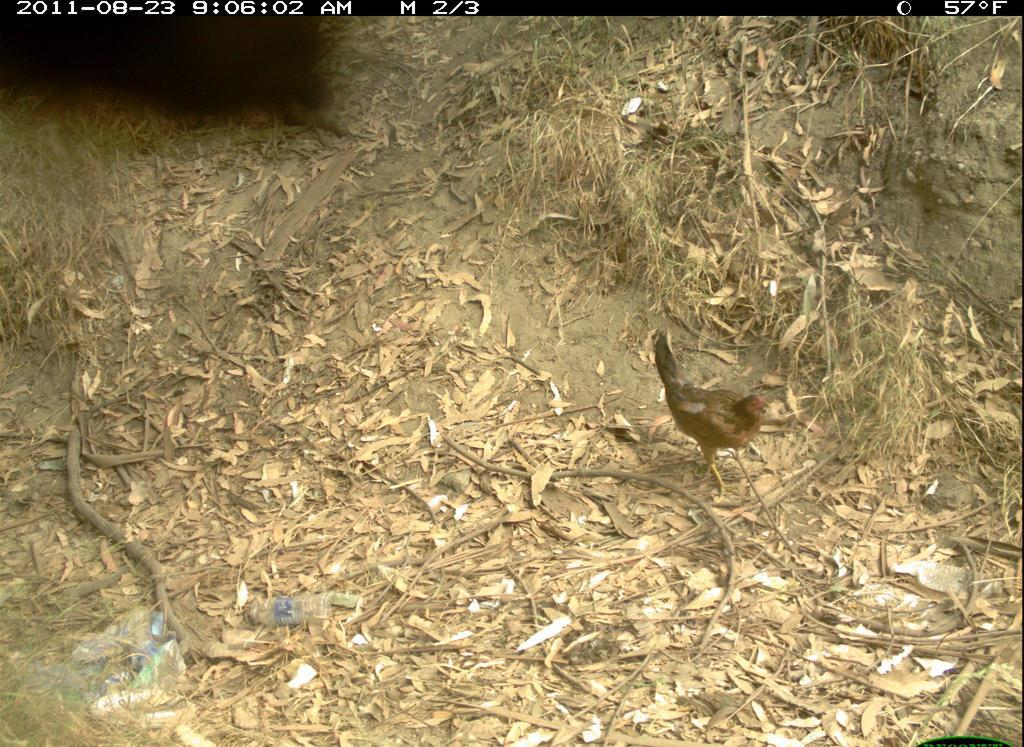bird: (643, 318, 776, 502)
